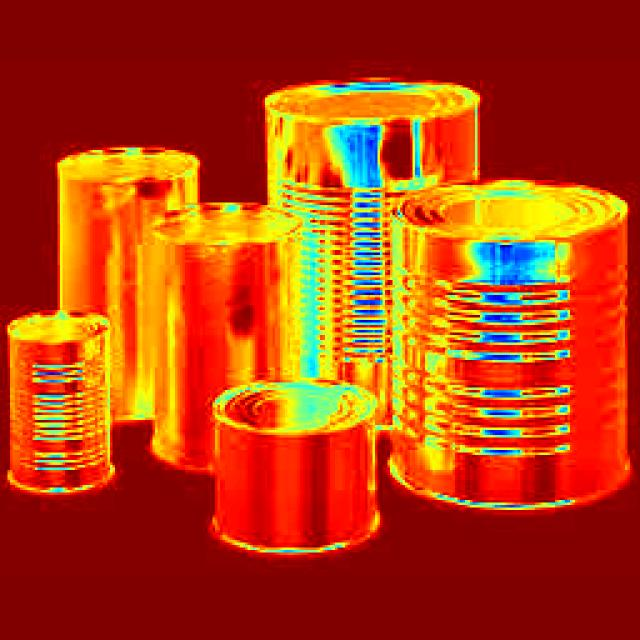Aluminium Food Cans: (395, 168, 640, 518), (260, 72, 487, 344), (197, 372, 393, 554), (141, 195, 291, 393), (52, 138, 218, 306), (1, 306, 117, 493)
